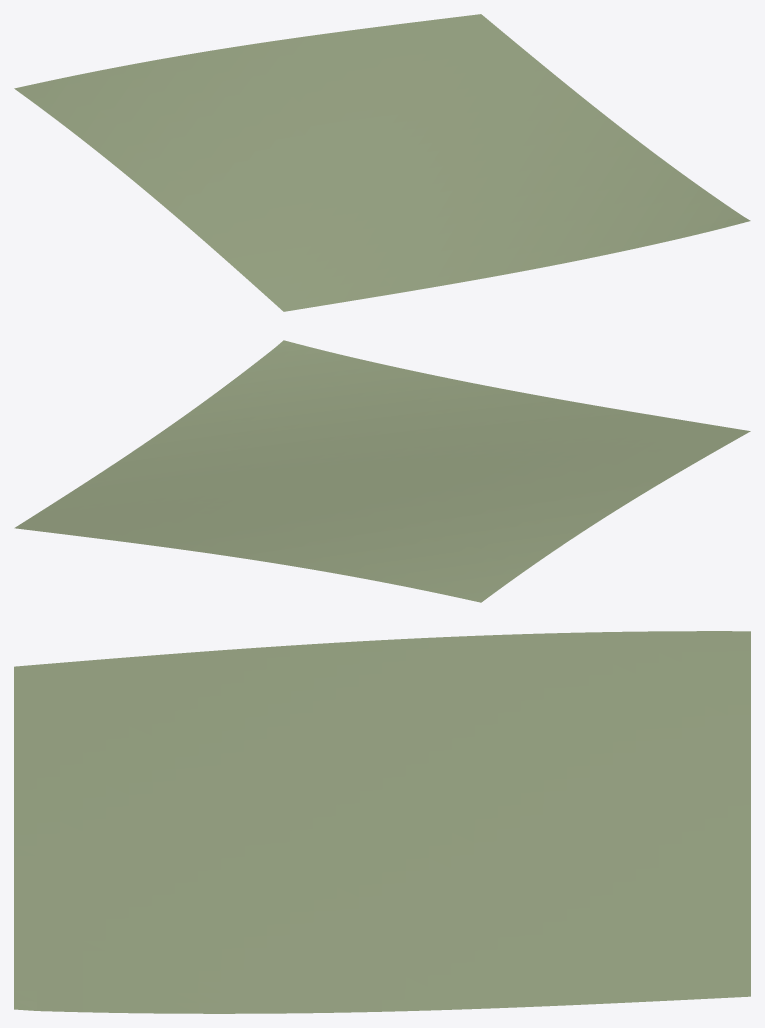
The model's file is alpine-3-1.glb.
The picture shows the model from 3 angles, top to bottom: view 1: azimuth 30°, elevation 25°; view 2: azimuth 150°, elevation 25°; view 3: azimuth 270°, elevation 25°; orthographic projection. The views are drawn at different scales.
Parts seen in each view (by area): view 1: alpine-3-1; view 2: alpine-3-1; view 3: alpine-3-1.
Part boxes in pixels (box(x1,y1,x2,y2)): alpine-3-1: box(14, 14, 750, 311); alpine-3-1: box(14, 340, 750, 602); alpine-3-1: box(14, 631, 750, 1013).
Bounding box in the file's own units: 256 × 27.31 × 256.
